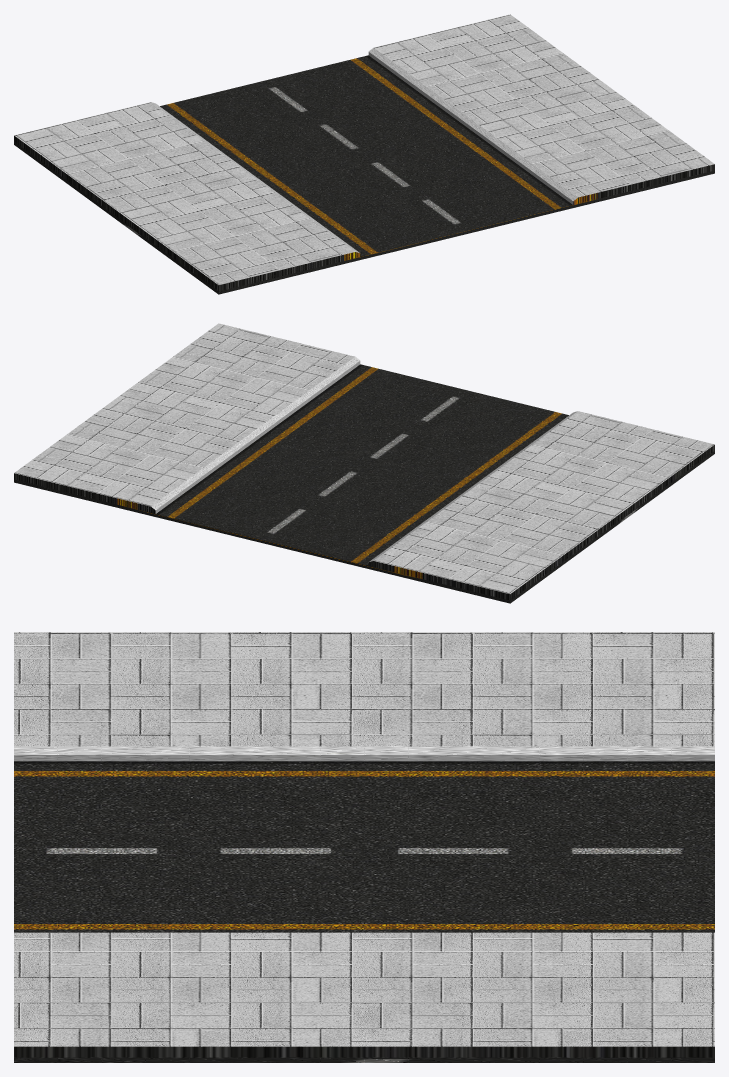
The model's file is roadSideWalk5M.fbx.
The picture shows the model from 3 angles, top to bottom: view 1: azimuth 30°, elevation 25°; view 2: azimuth 150°, elevation 25°; view 3: azimuth 270°, elevation 25°; orthographic projection. The views are drawn at different scales.
Parts seen in each view (by area): view 1: road; view 2: road; view 3: road.
Boxes of the visible parts, x1=… form: road: x1=14, y1=14, x2=714, y2=294; road: x1=14, y1=323, x2=714, y2=603; road: x1=14, y1=632, x2=714, y2=1062.
Size of the model in its own units: 2100 by 38.01 by 1500.
3 materials, 3 textured.
